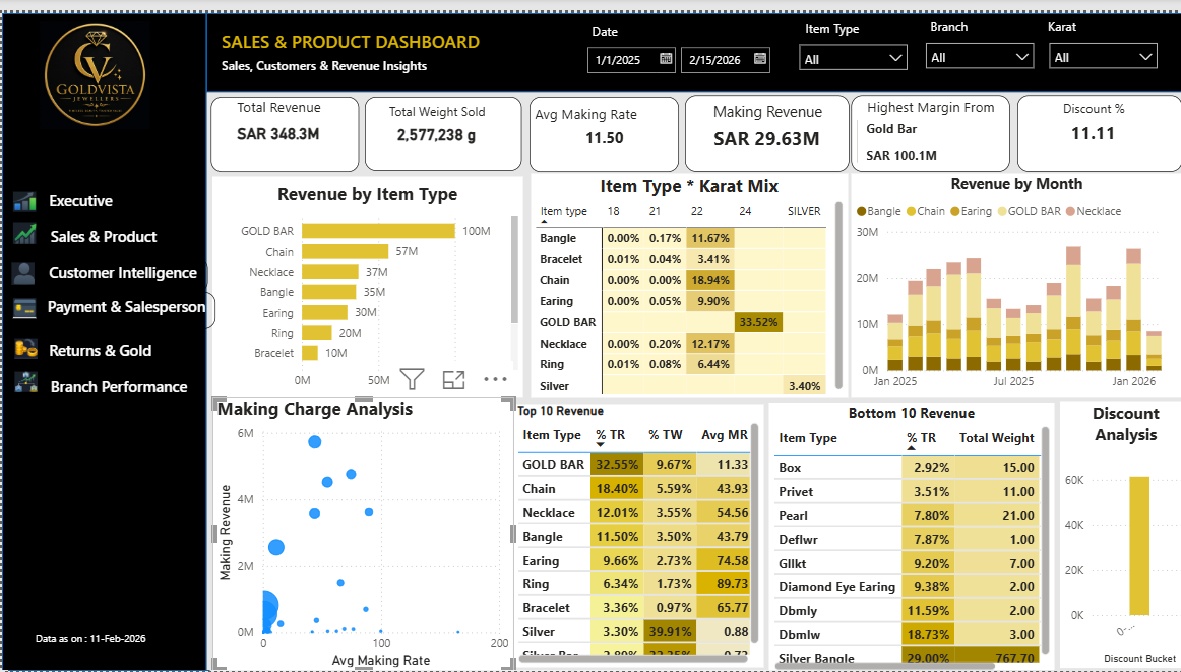

The dashboard page shown, as its layout file describes it:
{"tool":"powerbi","page":{"name":"Sales & Product","canvas":[1280,720],"ordinal":1},"visuals":[{"type":"shape","box":[0,0,220.5,720],"z":0},{"type":"image","box":[31.5,3.4,137.1,129.2],"z":1000},{"type":"card","fields":{"Values":["Measure.Last Data Date"]},"box":[0,653,190,67],"z":2000},{"type":"shape","box":[220.2,0,1059.6,86.5],"z":3000},{"type":"slicer","fields":{"Values":["dim_date.Date"]},"box":[617,27.2,217,64],"z":4000},{"type":"textbox","box":[630,4.2,74,30],"z":5000},{"type":"slicer","fields":{"Values":["public dim_branch.branch_name"]},"box":[984,23,136,55],"z":6000},{"type":"slicer","fields":{"Values":["public dim_karat.karat_name"]},"box":[1117,23,136,55],"z":7000},{"type":"textbox","box":[993,0,74,30],"z":8000},{"type":"textbox","box":[1120,0,74,30],"z":9000},{"type":"textbox","title":"SALES & PRODUCT DASHBOARD","box":[231.2,18.8,365.6,50],"z":10000},{"type":"card","title":"Total Revenue","fields":{"Values":["Measure.Total Revenue Display"]},"box":[224.7,91,159.6,82],"z":11000},{"type":"card","title":"Avg Making Rate","fields":{"Values":["Measure.Avg Making Rate"]},"box":[567.4,91,160.7,82],"z":12000},{"type":"card","title":"Total Weight Sold","fields":{"Values":["Measure.Total Weight Display"]},"box":[389.9,92.1,168.5,80.9],"z":13000},{"type":"multiRowCard","title":"Highest Margin From","fields":{"Values":["Measure.Top Item Type","Measure.Top Item Type Revenue"]},"box":[913.5,89.9,170.8,83.1],"z":14000},{"type":"card","title":"Making Revenue","fields":{"Values":["Measure.Making Revenue Display"]},"box":[733.7,89.9,176.4,83.1],"z":15000},{"type":"card","title":"Discount % ","fields":{"Values":["Sum(public vw_sales_clean.Discount %)"]},"box":[1092.1,89.9,177.5,83.1],"z":16000},{"type":"clusteredBarChart","title":"Revenue by Item Type","fields":{"Category":["public dim_item_type.item_type_name_clean"],"Y":["Measure.Total Revenue"]},"box":[227,178.3,333.7,241.6],"z":17000},{"type":"pivotTable","title":"Item Type * Karat Mix","fields":{"Rows":["public dim_item_type.item_type_name_clean"],"Columns":["public dim_karat.karat_name"],"Values":["Measure.Total Revenue"]},"box":[569.7,175.3,340.4,244.9],"z":18000},{"type":"clusteredColumnChart","title":"Discount Analysis","fields":{"Category":["public vw_sales_clean.Discount Bucket"],"Y":["Measure.Invoice Count"]},"box":[1138.2,424.7,141.6,291],"z":19000},{"type":"tableEx","title":"Bottom 10 Revenue","fields":{"Values":["public dim_item_type.item_type_name","Measure.Total Revenue","Measure.Total Weight","Measure.Avg Making Rate"]},"box":[824.7,425.8,306.7,292.1],"z":20000},{"type":"tableEx","title":"Top 10 Revenue","fields":{"Values":["public dim_item_type.item_type_name_clean","Measure.Total Revenue","Measure.Total Weight","Measure.Avg Making Rate"]},"box":[549.8,428.1,269.7,287.6],"z":21000},{"type":"columnChart","title":"Revenue by Month","fields":{"Category":["dim_date.YearMonth"],"Series":["public dim_item_type.item_type_name_clean"],"Y":["Measure.Total Revenue"]},"box":[913.5,175.3,356.2,244.9],"z":22000},{"type":"slicer","fields":{"Values":["public dim_item_type.item_type_name_clean"]},"box":[846.9,24.5,136,55],"z":23000},{"type":"textbox","box":[859.4,1.6,98.4,29.7],"z":24000},{"type":"actionButton","title":"Executive","box":[46.7,188.6,154,39],"z":25000},{"type":"actionButton","title":"Sales & Product","box":[47.7,227.6,154,39],"z":26000},{"type":"actionButton","title":"Customer Intelligence","box":[46.7,267.3,175,38.3],"z":27000},{"type":"actionButton","title":"Payment & Salesperson","box":[39.8,303.6,181.9,41],"z":28000},{"type":"actionButton","title":"Returns & Buy-Back","box":[46.7,352.6,154,39],"z":29000},{"type":"actionButton","title":"Branch Performance","box":[47,391.3,155,41],"z":30000},{"type":"image","box":[6.7,188.1,35,35],"z":31000},{"type":"image","box":[8.3,384.8,35,35],"z":32000},{"type":"image","box":[8.3,349.8,35,35],"z":33000},{"type":"image","box":[5,266.5,35,35],"z":34000},{"type":"image","box":[6.7,304.8,35,35],"z":35000},{"type":"image","box":[6.7,223.1,35,35],"z":36000},{"type":"scatterChart","title":"Making Charge Analysis","fields":{"X":["Measure.Avg Making Rate"],"Y":["Measure.Making Revenue"],"Category":["public dim_item_type.item_type_name"],"Size":["Measure.Total Weight"]},"box":[227,420,323,300],"z":37000}]}

Visuals, with their boxes on the page's 1280x720 design canvas (x1, y1, x2, y2). These are canvas units, not pixel positions in the 1181x672 screenshot, which may show the page scaled, cropped or inside an application window:
shape: 0, 0, 220, 720
image: 32, 3, 169, 133
card - Measure.Last Data Date: 0, 653, 190, 720
shape: 220, 0, 1280, 86
slicer - dim_date.Date: 617, 27, 834, 91
textbox: 630, 4, 704, 34
slicer - public dim_branch.branch_name: 984, 23, 1120, 78
slicer - public dim_karat.karat_name: 1117, 23, 1253, 78
textbox: 993, 0, 1067, 30
textbox: 1120, 0, 1194, 30
"SALES & PRODUCT DASHBOARD" textbox: 231, 19, 597, 69
"Total Revenue" card: 225, 91, 384, 173
"Avg Making Rate" card: 567, 91, 728, 173
"Total Weight Sold" card: 390, 92, 558, 173
"Highest Margin From" multiRowCard: 914, 90, 1084, 173
"Making Revenue" card: 734, 90, 910, 173
"Discount % " card: 1092, 90, 1270, 173
"Revenue by Item Type" clusteredBarChart: 227, 178, 561, 420
"Item Type * Karat Mix" pivotTable: 570, 175, 910, 420
"Discount Analysis" clusteredColumnChart: 1138, 425, 1280, 716
"Bottom 10 Revenue" tableEx: 825, 426, 1131, 718
"Top 10 Revenue" tableEx: 550, 428, 820, 716
"Revenue by Month" columnChart: 914, 175, 1270, 420
slicer - public dim_item_type.item_type_name_clean: 847, 24, 983, 80
textbox: 859, 2, 958, 31
"Executive" actionButton: 47, 189, 201, 228
"Sales & Product" actionButton: 48, 228, 202, 267
"Customer Intelligence" actionButton: 47, 267, 222, 306
"Payment & Salesperson" actionButton: 40, 304, 222, 345
"Returns & Buy-Back" actionButton: 47, 353, 201, 392
"Branch Performance" actionButton: 47, 391, 202, 432
image: 7, 188, 42, 223
image: 8, 385, 43, 420
image: 8, 350, 43, 385
image: 5, 266, 40, 302
image: 7, 305, 42, 340
image: 7, 223, 42, 258
"Making Charge Analysis" scatterChart: 227, 420, 550, 720
